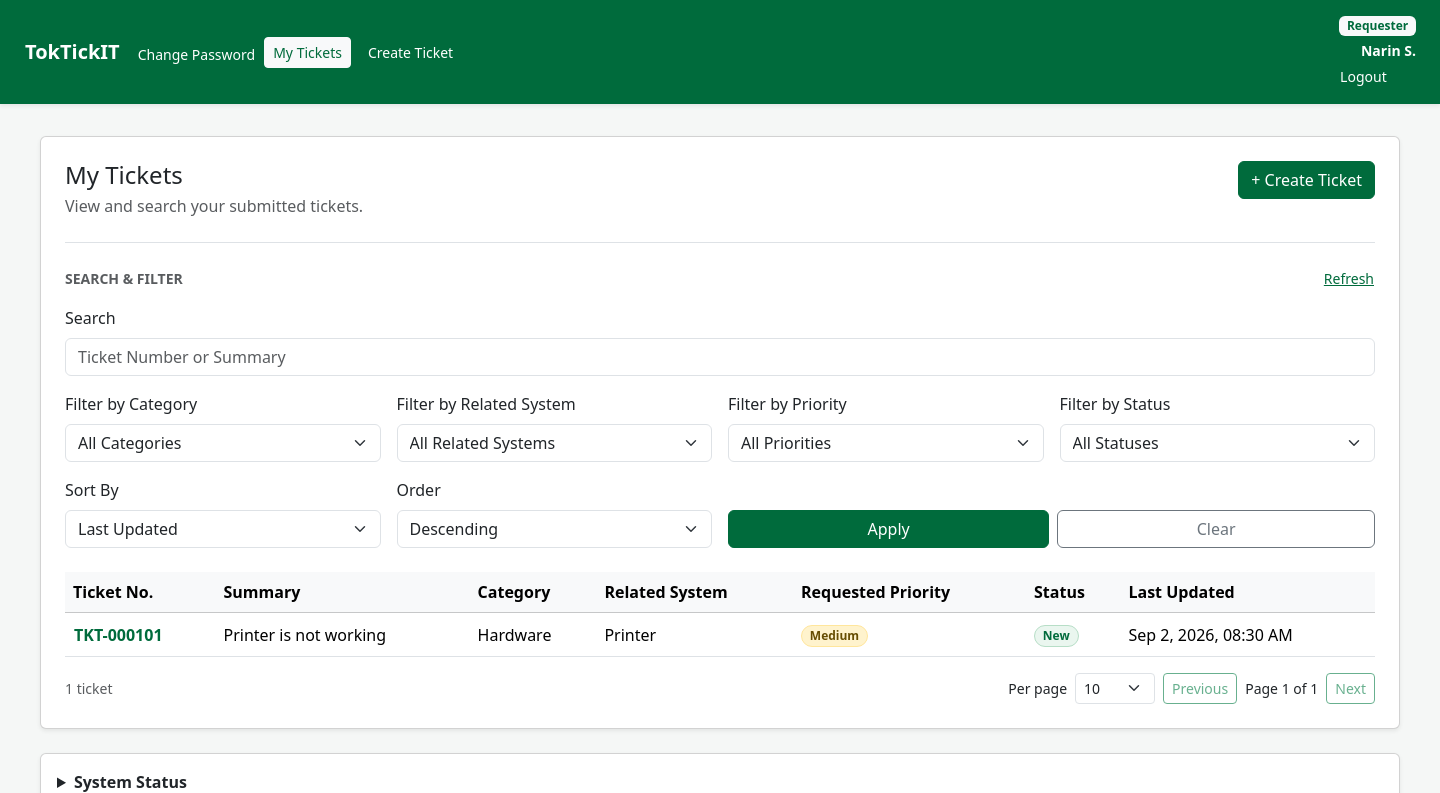
Test: Requester Ticket Detail › opens Ticket Detail from My Tickets
The width and height of the screenshot is (1440, 793).
Expected: the heading "My Tickets" is shown, x1=65 y1=158 x2=183 y2=191
Click the button with aria-label "View TKT-000101": (118, 635) x1=73 y1=622 x2=164 y2=648
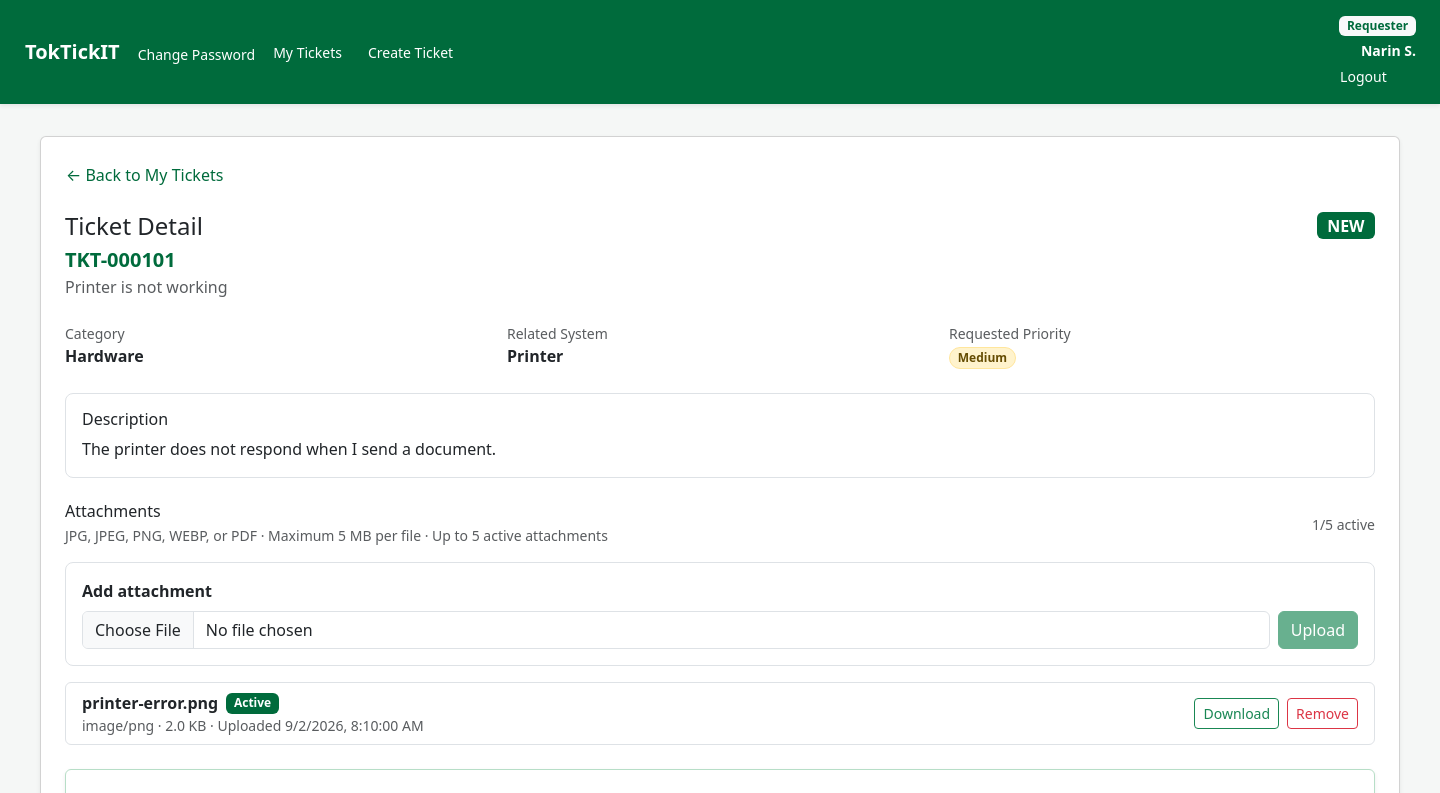
Now the heading "Ticket Detail" is shown, box x1=65 y1=209 x2=203 y2=242
Now the text "Printer is not working" is shown, box x1=65 y1=275 x2=228 y2=299
Now the text "The printer does not respond when I send a document." is shown, box x1=82 y1=438 x2=496 y2=460
